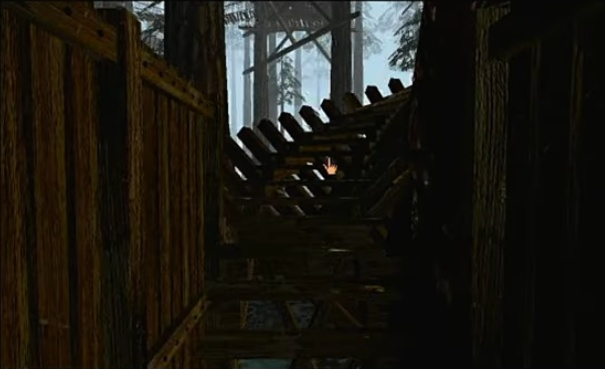Pointer: (319, 154, 342, 177)
